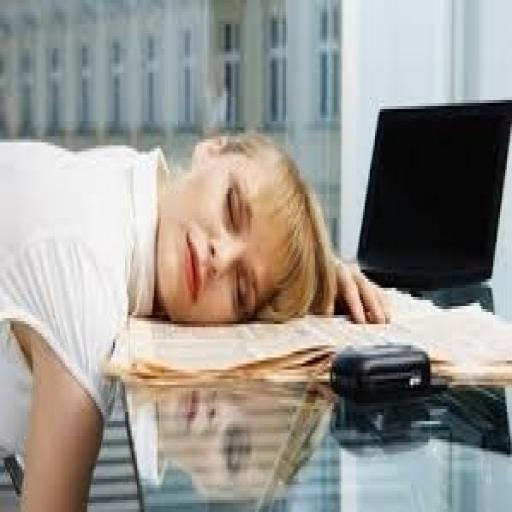sleeping: (0, 124, 392, 509)
